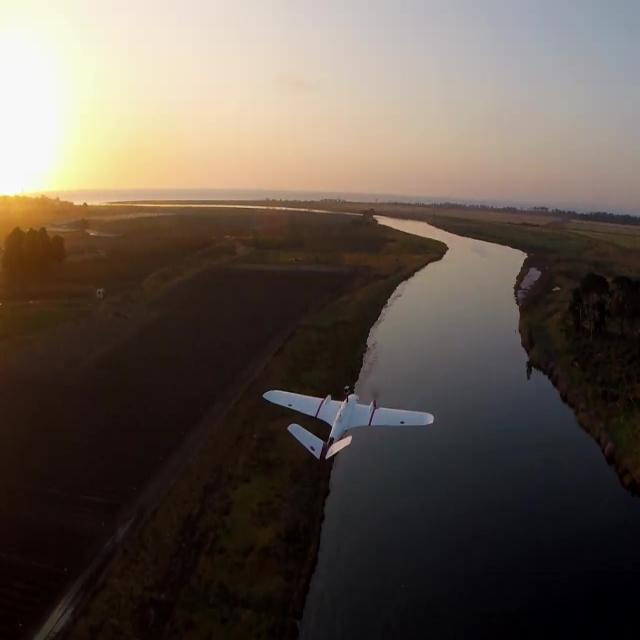iha: (264, 412, 436, 433)
